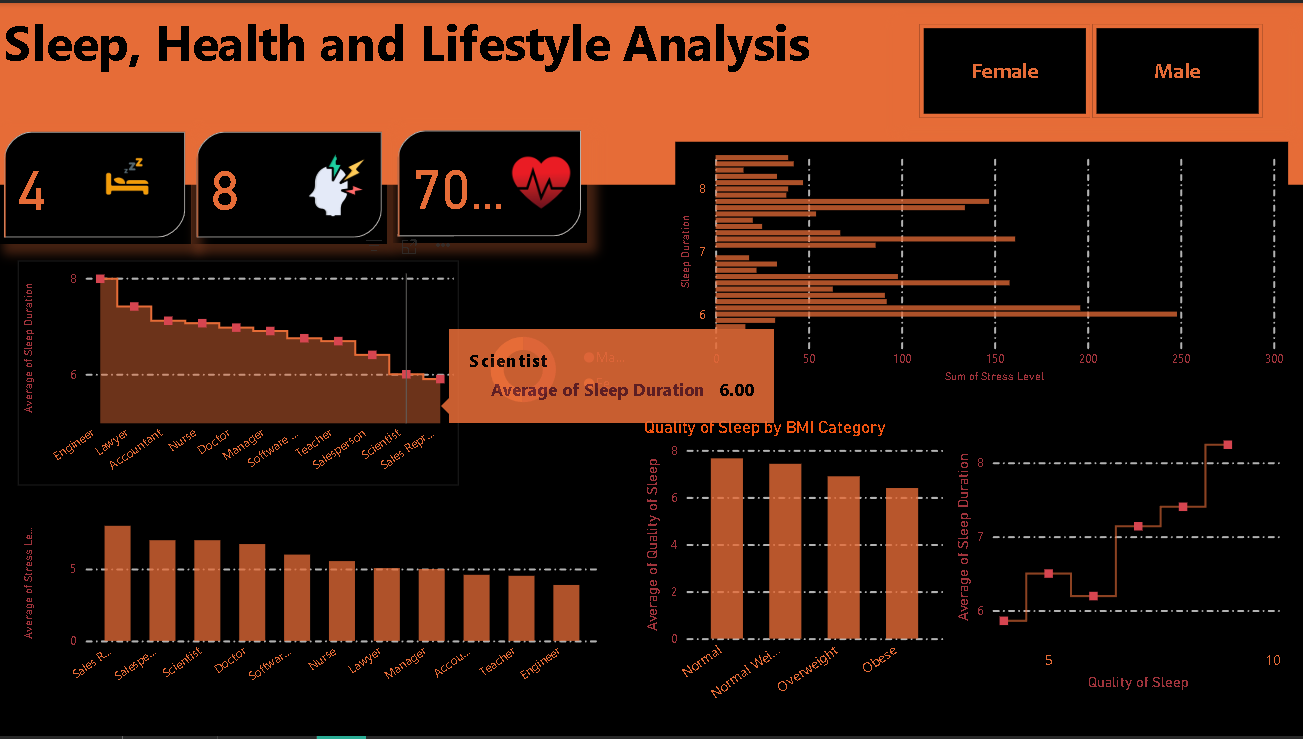

The page's visual inventory and layout, read from the dashboard file:
{"tool":"powerbi","page":{"name":"Page 1","canvas":[1280,720],"ordinal":0},"visuals":[{"type":"textbox","box":[0,0,1280,178.3],"z":0},{"type":"cardVisual","fields":{"Data":["Min(Sleep_health_and_lifestyle_dataset.Quality of Sleep)"]},"box":[0,121.7,188.8,115],"z":1000},{"type":"cardVisual","fields":{"Data":["Max(Sleep_health_and_lifestyle_dataset.Stress Level)"]},"box":[188.8,121.7,192.2,115],"z":2000},{"type":"cardVisual","fields":{"Data":["Avg(Sleep_health_and_lifestyle_dataset.Heart Rate)"]},"box":[386.1,120,190.5,115],"z":3000},{"type":"slicer","fields":{"Values":["Sleep_health_and_lifestyle_dataset.Gender"]},"box":[877.5,13.8,387.5,106.2],"z":4000},{"type":"areaChart","fields":{"Category":["Sleep_health_and_lifestyle_dataset.Occupation"],"Y":["Avg(Sleep_health_and_lifestyle_dataset.Sleep Duration)"]},"box":[18.3,253.3,433.3,220],"z":5000},{"type":"columnChart","fields":{"Category":["Sleep_health_and_lifestyle_dataset.Occupation"],"Y":["Avg(Sleep_health_and_lifestyle_dataset.Stress Level)"]},"box":[18.3,500,575,180],"z":6000},{"type":"lineClusteredColumnComboChart","title":"Quality of Sleep by BMI Category","fields":{"Category":["Sleep_health_and_lifestyle_dataset.BMI Category"],"Y":["Avg(Sleep_health_and_lifestyle_dataset.Quality of Sleep)"]},"box":[628.3,406.7,305,290],"z":7000},{"type":"donutChart","fields":{"Category":["Sleep_health_and_lifestyle_dataset.Gender"],"Y":["CountNonNull(Sleep_health_and_lifestyle_dataset.Sleep Disorder)"]},"box":[451.2,270,177.5,180],"z":10000},{"type":"lineChart","fields":{"Y":["Avg(Sleep_health_and_lifestyle_dataset.Sleep Duration)"],"Category":["Sleep_health_and_lifestyle_dataset.Quality of Sleep"]},"box":[933.3,401.7,331.7,278.3],"z":11000},{"type":"clusteredBarChart","fields":{"Category":["Sleep_health_and_lifestyle_dataset.Sleep Duration"],"Y":["Sum(Sleep_health_and_lifestyle_dataset.Stress Level)"]},"box":[663.3,136.7,601.7,241.7],"z":12000}]}

Visuals, with their boxes in screenshot pixels (x1, y1, x2, y2), scaled from the page's 1280x720 canvas onto the 1303x739 screenshot:
textbox: bbox=(0, 0, 1302, 183)
cardVisual - Min(Sleep_health_and_lifestyle_dataset.Quality of Sleep): bbox=(0, 125, 192, 243)
cardVisual - Max(Sleep_health_and_lifestyle_dataset.Stress Level): bbox=(192, 125, 388, 243)
cardVisual - Avg(Sleep_health_and_lifestyle_dataset.Heart Rate): bbox=(393, 123, 587, 241)
slicer - Sleep_health_and_lifestyle_dataset.Gender: bbox=(893, 14, 1288, 123)
areaChart - Sleep_health_and_lifestyle_dataset.Occupation x Avg(Sleep_health_and_lifestyle_dataset.Sleep Duration): bbox=(19, 260, 460, 486)
columnChart - Sleep_health_and_lifestyle_dataset.Occupation x Avg(Sleep_health_and_lifestyle_dataset.Stress Level): bbox=(19, 513, 604, 698)
"Quality of Sleep by BMI Category" lineClusteredColumnComboChart: bbox=(640, 417, 950, 715)
donutChart - Sleep_health_and_lifestyle_dataset.Gender x CountNonNull(Sleep_health_and_lifestyle_dataset.Sleep Disorder): bbox=(459, 277, 640, 462)
lineChart - Avg(Sleep_health_and_lifestyle_dataset.Sleep Duration) x Sleep_health_and_lifestyle_dataset.Quality of Sleep: bbox=(950, 412, 1288, 698)
clusteredBarChart - Sleep_health_and_lifestyle_dataset.Sleep Duration x Sum(Sleep_health_and_lifestyle_dataset.Stress Level): bbox=(675, 140, 1288, 388)
